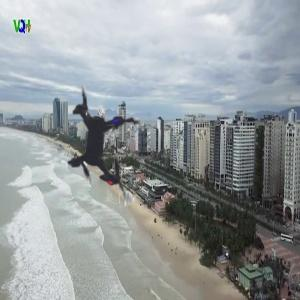drone: (9, 53, 196, 240)
